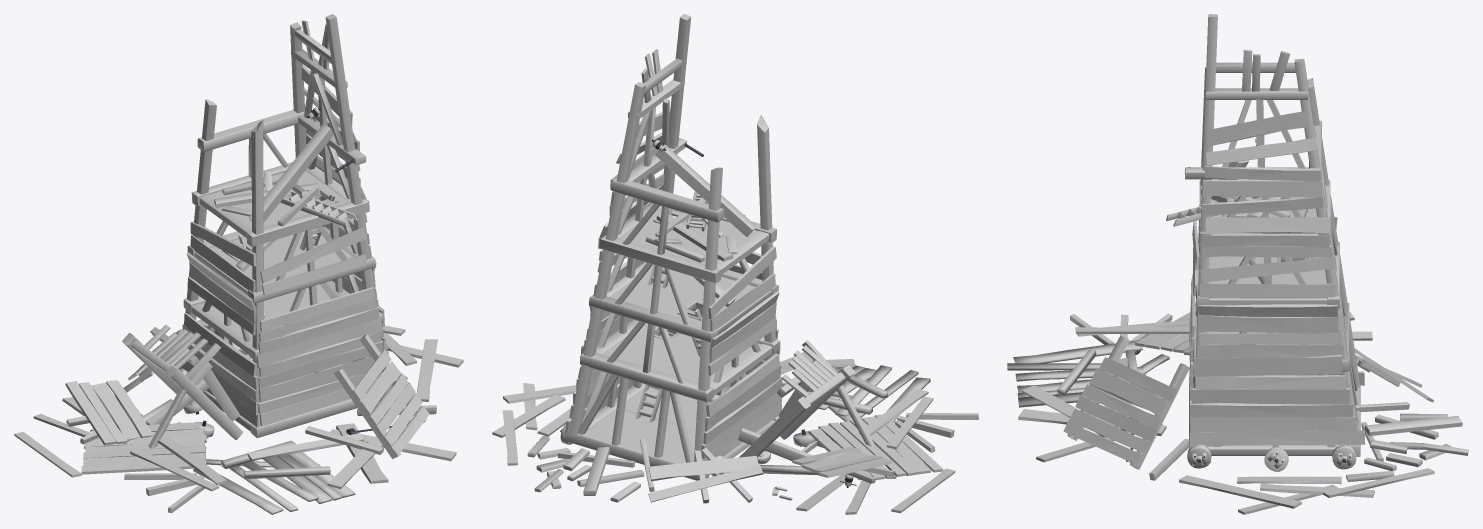
File: Siege_Tower_Destroyed.FBX
3 renders of one model, left to right at view 1: azimuth 30°, elevation 25°; view 2: azimuth 150°, elevation 25°; view 3: azimuth 270°, elevation 25°, orthographic. The views are drawn at different scales.
Parts seen in each view (by area): view 1: Siege_Tower_Destroyed; view 2: Siege_Tower_Destroyed; view 3: Siege_Tower_Destroyed.
Part boxes in pixels (bbox=[...]): Siege_Tower_Destroyed: bbox=[14, 14, 463, 514]; Siege_Tower_Destroyed: bbox=[492, 14, 978, 514]; Siege_Tower_Destroyed: bbox=[1007, 14, 1468, 514].
Bounding box in the file's own units: 2076 × 1914 × 1865.
